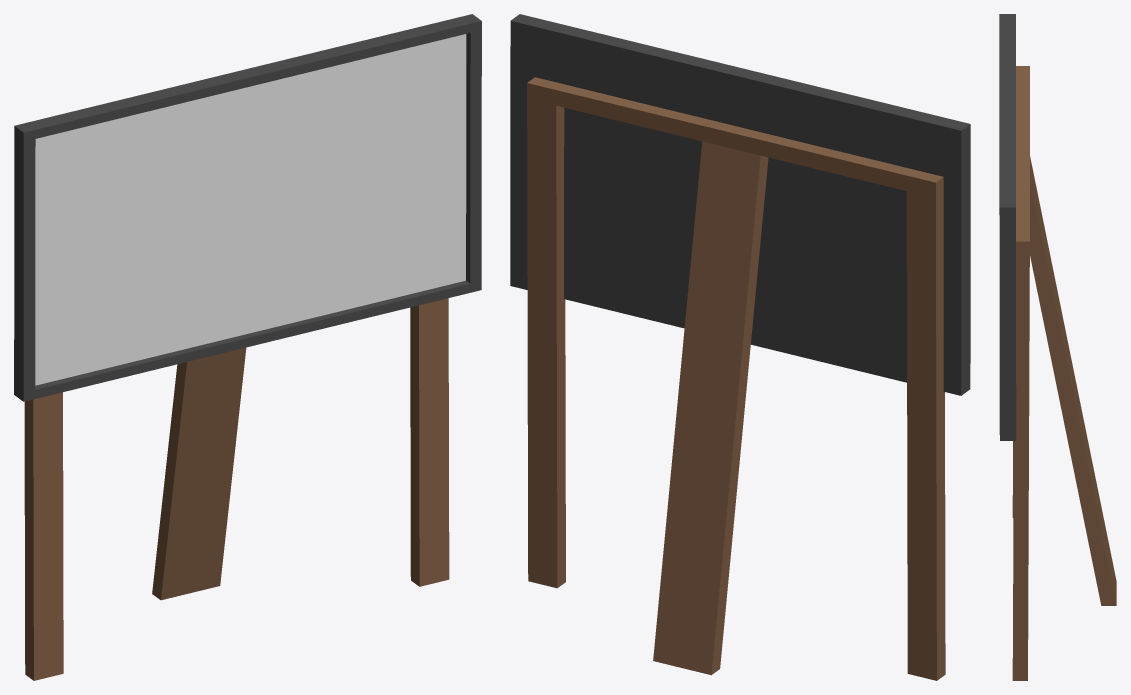
File: Pizarra.fbx
The picture shows the model from 3 angles, left to right: view 1: azimuth 30°, elevation 25°; view 2: azimuth 150°, elevation 25°; view 3: azimuth 270°, elevation 25°; orthographic projection. The views are drawn at different scales.
Visible parts, largest first — view 1: Cube; view 2: Cube; view 3: Cube.
Part boxes in pixels (bbox=[...]): Cube: bbox=[14, 14, 481, 680]; Cube: bbox=[510, 14, 970, 680]; Cube: bbox=[999, 14, 1116, 680].
Size of the model in its own units: 157 by 183 by 40.15.
